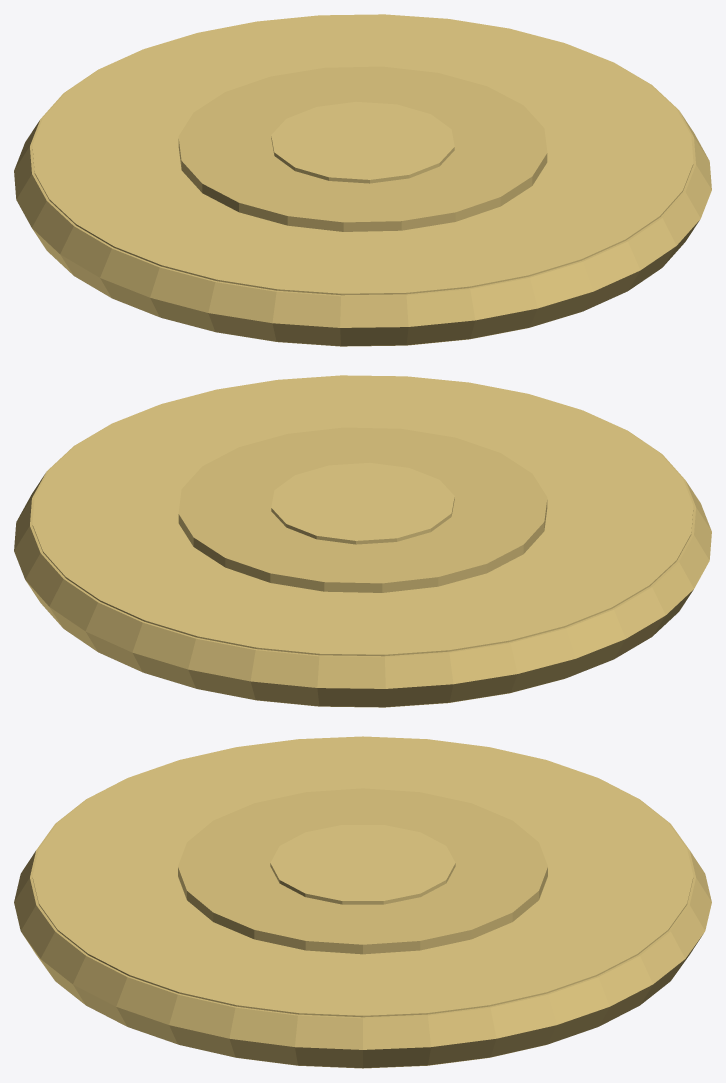
Rendered from item_65_pocket_coin.glb.
3 renders of one model, top to bottom at view 1: azimuth 30°, elevation 25°; view 2: azimuth 150°, elevation 25°; view 3: azimuth 270°, elevation 25°, orthographic.
Parts seen in each view (by area): view 1: I65_Coin, I65_Milled, I65_Emblem, I65_Emblem2; view 2: I65_Coin, I65_Milled, I65_Emblem, I65_Emblem2; view 3: I65_Coin, I65_Milled, I65_Emblem, I65_Emblem2.
Part boxes in pixels (<box>): I65_Coin: <box>32,14,693,346</box>; I65_Milled: <box>14,49,711,346</box>; I65_Emblem: <box>178,66,547,231</box>; I65_Emblem2: <box>271,101,454,183</box>; I65_Coin: <box>32,375,693,707</box>; I65_Milled: <box>14,410,711,707</box>; I65_Emblem: <box>178,427,547,592</box>; I65_Emblem2: <box>271,462,454,544</box>; I65_Coin: <box>32,736,693,1068</box>; I65_Milled: <box>14,778,711,1068</box>; I65_Emblem: <box>178,788,547,954</box>; I65_Emblem2: <box>270,825,455,904</box>.
Bounding box in the file's own units: 0.0264 × 0.00275 × 0.0264.
